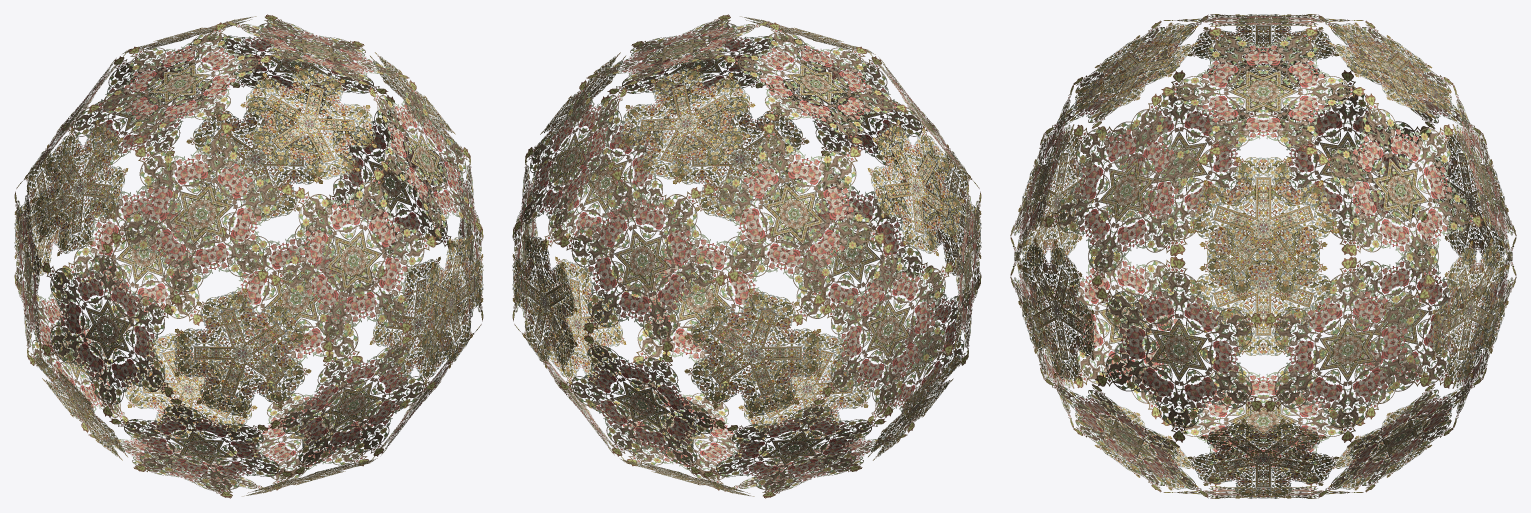
Rendered from TruncatedIcosahedron8.gltf.
3 views of the same model, side by side, from view 1: azimuth 30°, elevation 25°; view 2: azimuth 150°, elevation 25°; view 3: azimuth 270°, elevation 25° (orthographic). The views are drawn at different scales.
Visible parts, largest first — view 1: TruncatedIcosahedron; view 2: TruncatedIcosahedron; view 3: TruncatedIcosahedron.
Boxes of the visible parts, left/top/right/bottom form: TruncatedIcosahedron: left=14, top=14, right=483, bottom=498; TruncatedIcosahedron: left=512, top=14, right=981, bottom=498; TruncatedIcosahedron: left=1010, top=14, right=1516, bottom=498.
Bounding box in the file's own units: 4.85 × 4.85 × 4.85.
2 materials, 2 textured.
